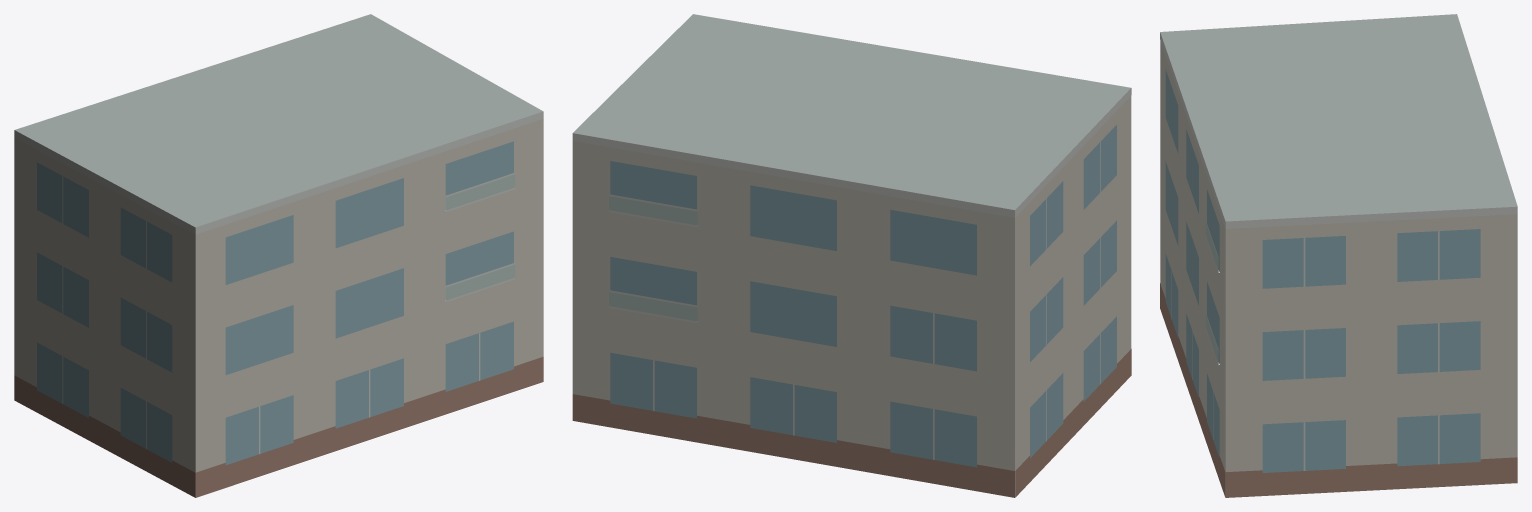
The model's file is survey-upis-32868052.glb.
3 views of the same model, side by side, from view 1: azimuth 30°, elevation 25°; view 2: azimuth 150°, elevation 25°; view 3: azimuth 270°, elevation 25° (orthographic). The views are drawn at different scales.
Visible parts, largest first — view 1: survey-upis-32868052.tmp; view 2: survey-upis-32868052.tmp; view 3: survey-upis-32868052.tmp.
Part boxes in pixels (x1,y1,x2,y2): survey-upis-32868052.tmp: [14, 14, 543, 497]; survey-upis-32868052.tmp: [572, 14, 1131, 497]; survey-upis-32868052.tmp: [1160, 14, 1517, 497].
Size of the model in its own units: 14.74 by 9.15 by 10.74.
